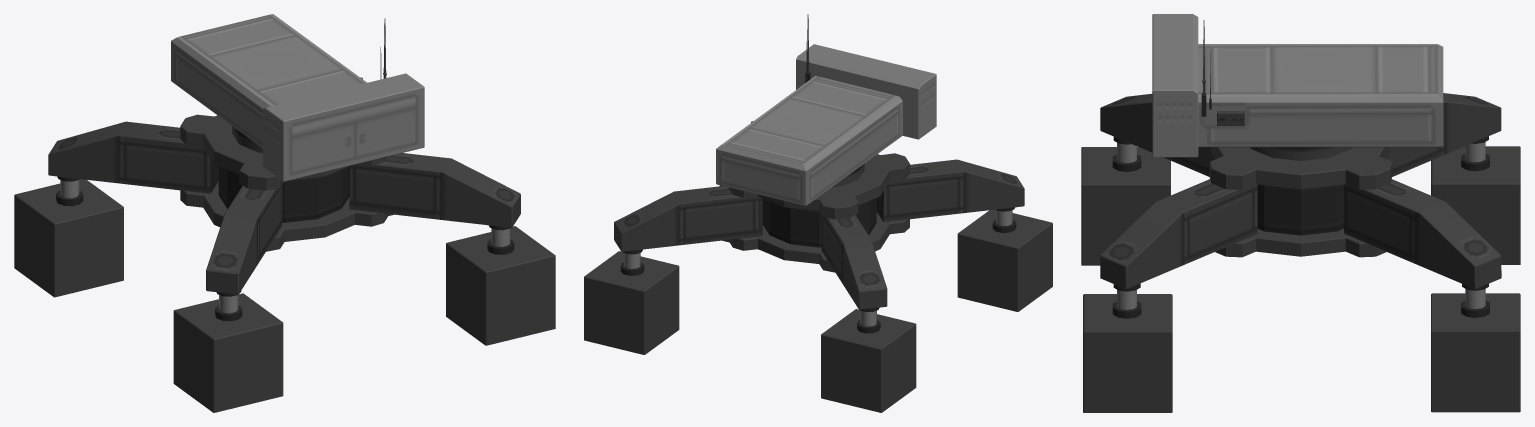
Rendered from stationary_turret_base.fbx.
3 views of the same model, side by side, from view 1: azimuth 30°, elevation 25°; view 2: azimuth 150°, elevation 25°; view 3: azimuth 270°, elevation 25° (orthographic). The views are drawn at different scales.
Visible parts, largest first — view 1: stationary_turret_base; view 2: stationary_turret_base; view 3: stationary_turret_base.
Part boxes in pixels (x1=…): stationary_turret_base: x1=14, y1=14, x2=555, y2=412; stationary_turret_base: x1=584, y1=14, x2=1052, y2=412; stationary_turret_base: x1=1081, y1=14, x2=1520, y2=412.
Size of the model in its own units: 493 by 409 by 493.
Materials: 1 (1 with a texture image).
